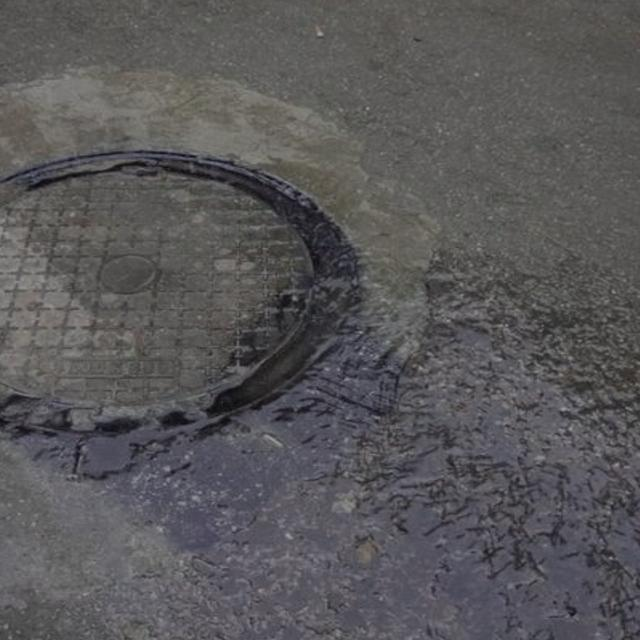circle: (0, 103, 430, 508)
